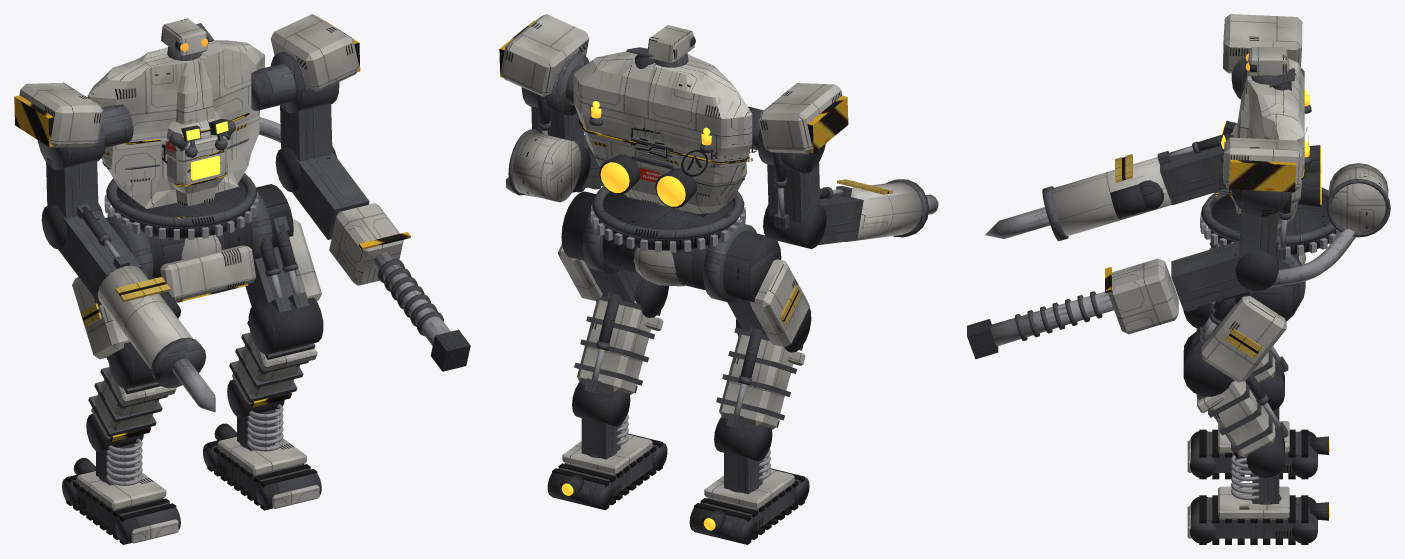
The model's file is mech_foreman.glb.
3 views of the same model, side by side, from view 1: azimuth 30°, elevation 25°; view 2: azimuth 150°, elevation 25°; view 3: azimuth 270°, elevation 25° (orthographic). The views are drawn at different scales.
Visible parts, largest first — view 1: cockpit_foreman_armor.001, hand_R_foreman_armor.001, shoulder_L_foreman_armor.001, shoulder_L_foreman_frame.001, hand_L_foreman_armor2.001, shoulder_R_foreman_frame.001, forearm_L_foreman_frame.001, pelvis_foreman_armor.001, forearm_R_foreman_frame.001, shoulder_R_foreman_armor.001, shin_L_foreman_dark.001, torso_foreman_frame.001 (+45 smaller); view 2: cockpit_foreman_armor.001, pelvis_foreman_dark.001, shoulder_L_foreman_armor.001, torso_foreman_armor2.001, shoulder_R_foreman_armor.001, shin_L_foreman_armor.001, shin_R_foreman_armor.001, shoulder_R_foreman_frame.001, torso_twist_foreman_dark.001, hand_R_foreman_armor.001, thigh_R_foreman_armor.001, shoulder_L_foreman_frame.001 (+33 smaller); view 3: cockpit_foreman_armor.001, hand_R_foreman_armor.001, hand_L_foreman_armor2.001, thigh_L_foreman_armor.001, forearm_L_foreman_frame.001, shoulder_R_foreman_armor.001, torso_foreman_armor2.001, forearm_R_foreman_frame.001, shoulder_L_foreman_frame.001, shin_L_foreman_armor.001, shoulder_L_foreman_armor.001, hand_L_foreman_metal (+28 smaller).
Boxes of the visible parts, bbox=[...] form: cockpit_foreman_armor.001: bbox=[87, 40, 264, 208]; hand_R_foreman_armor.001: bbox=[97, 265, 192, 368]; shoulder_L_foreman_armor.001: bbox=[270, 14, 359, 91]; shoulder_L_foreman_frame.001: bbox=[271, 52, 339, 161]; hand_L_foreman_armor2.001: bbox=[329, 203, 403, 285]; shoulder_R_foreman_frame.001: bbox=[37, 122, 105, 218]; forearm_L_foreman_frame.001: bbox=[292, 152, 369, 239]; pelvis_foreman_armor.001: bbox=[160, 245, 256, 301]; forearm_R_foreman_frame.001: bbox=[58, 203, 141, 304]; shoulder_R_foreman_armor.001: bbox=[19, 82, 103, 147]; shin_L_foreman_dark.001: bbox=[248, 297, 323, 354]; torso_foreman_frame.001: bbox=[101, 64, 295, 147]; cockpit_foreman_armor.001: bbox=[573, 47, 752, 213]; pelvis_foreman_dark.001: bbox=[561, 191, 781, 302]; shoulder_L_foreman_armor.001: bbox=[500, 14, 589, 96]; torso_foreman_armor2.001: bbox=[513, 132, 581, 202]; shoulder_R_foreman_armor.001: bbox=[758, 83, 842, 153]; shin_L_foreman_armor.001: bbox=[577, 299, 650, 394]; shin_R_foreman_armor.001: bbox=[719, 334, 792, 429]; shoulder_R_foreman_frame.001: bbox=[757, 128, 825, 229]; torso_twist_foreman_dark.001: bbox=[599, 192, 736, 250]; hand_R_foreman_armor.001: bbox=[844, 182, 921, 241]; thigh_R_foreman_armor.001: bbox=[749, 259, 809, 346]; shoulder_L_foreman_frame.001: bbox=[521, 53, 589, 147]; cockpit_foreman_armor.001: bbox=[1229, 58, 1304, 228]; hand_R_foreman_armor.001: bbox=[1052, 157, 1171, 236]; hand_L_foreman_armor2.001: bbox=[1108, 258, 1178, 334]; thigh_L_foreman_armor.001: bbox=[1201, 296, 1286, 382]; forearm_L_foreman_frame.001: bbox=[1171, 240, 1259, 311]; shoulder_R_foreman_armor.001: bbox=[1223, 14, 1302, 73]; torso_foreman_armor2.001: bbox=[1328, 163, 1388, 232]; forearm_R_foreman_frame.001: bbox=[1157, 141, 1226, 205]; shoulder_L_foreman_frame.001: bbox=[1232, 189, 1291, 260]; shin_L_foreman_armor.001: bbox=[1204, 381, 1275, 457]; shoulder_L_foreman_armor.001: bbox=[1223, 137, 1302, 191]; hand_L_foreman_metal: bbox=[990, 291, 1113, 346].
Bounding box in the file's own units: 16.76 × 24.1 × 20.69.
Materials: 13 (8 with a texture image).
